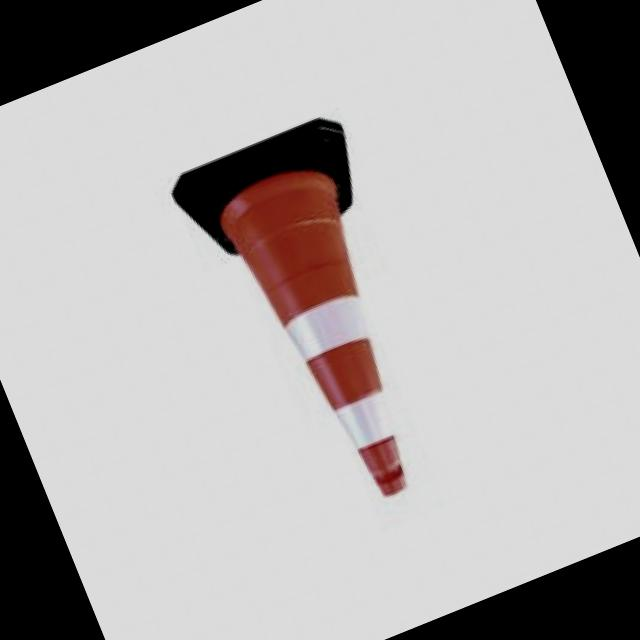cone: (138, 99, 494, 552)
